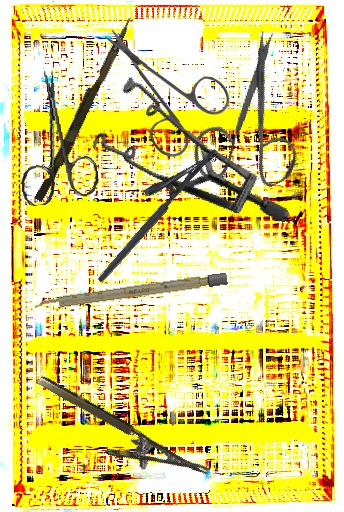Iris Scissors: (155, 26, 337, 214), (102, 28, 232, 159), (8, 65, 101, 208)
Needle Holder: (23, 372, 211, 503), (79, 132, 220, 284)
Pusher: (34, 13, 134, 205)
Scalpel Handle: (34, 272, 228, 312)
Speculum: (72, 40, 292, 283)
